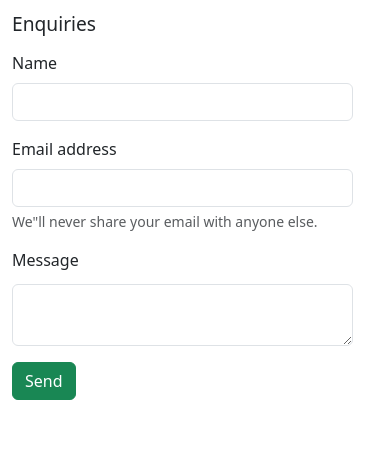
Test case: Components Test › contact form is usable
Type "James" into the field labelled "Name" at (183, 102), box [12, 83, 353, 121]
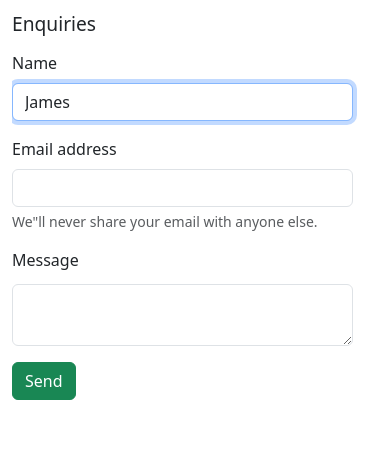
Type "james@example.com" into the field labelled "Email address" at (183, 188), box [12, 169, 353, 207]
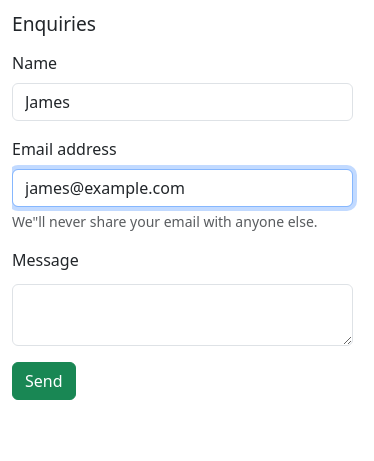
Type "Test message" into the text box labelled "Message" at (183, 315), box [12, 284, 353, 346]
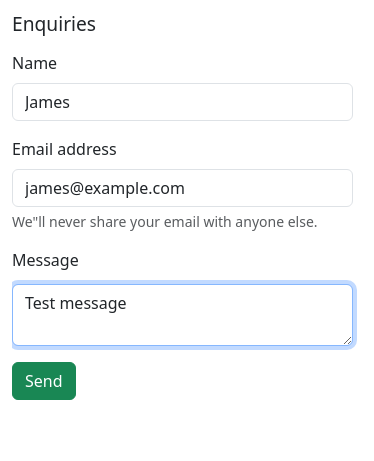
Click the button at (44, 381), box [12, 362, 76, 400]
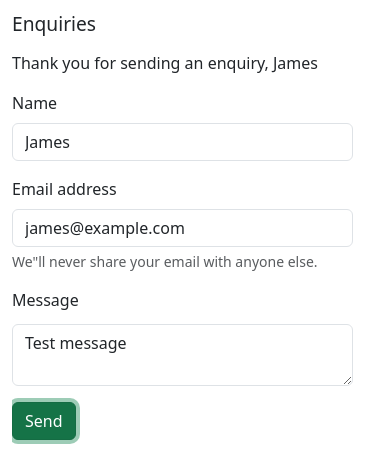
Now the text "Thank you for sending an enquiry, James" is shown, box [12, 51, 353, 75]
